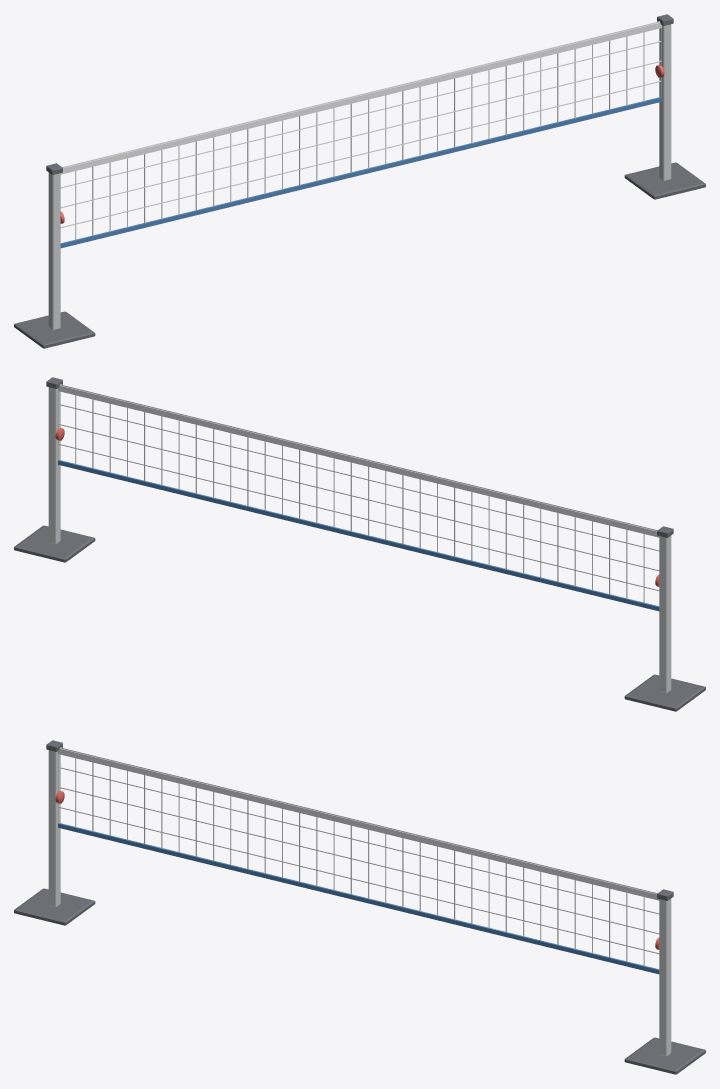
File: community-sports-hall-and-changing-rooms-badminton-pos-af4257cf__35092.glb
3 renders of one model, top to bottom at view 1: azimuth 30°, elevation 25°; view 2: azimuth 150°, elevation 25°; view 3: azimuth 330°, elevation 25°, orthographic.
Visible parts, largest first — view 1: badminton-post-pair; view 2: badminton-post-pair; view 3: badminton-post-pair.
Part boxes in pixels (box(x1,y1,x2,y2)): badminton-post-pair: box(14, 14, 705, 348); badminton-post-pair: box(14, 377, 705, 711); badminton-post-pair: box(14, 740, 705, 1074).
Size of the model in its own units: 6.62 by 1.58 by 0.5196.
